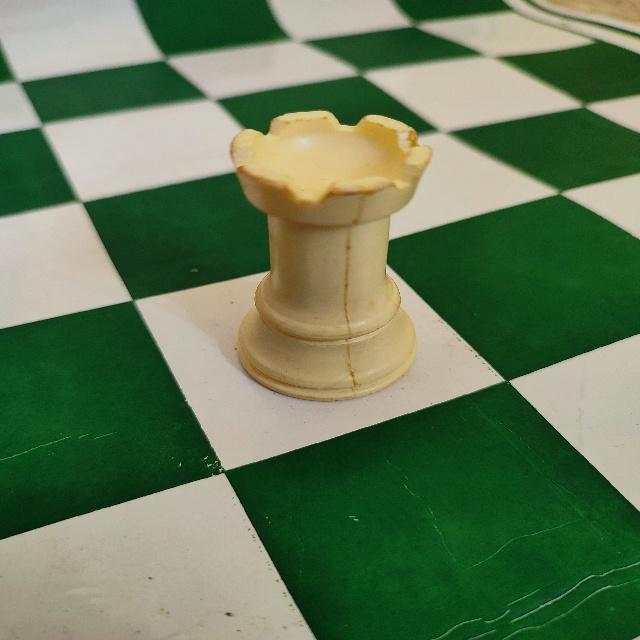Rook: (226, 108, 434, 403)
